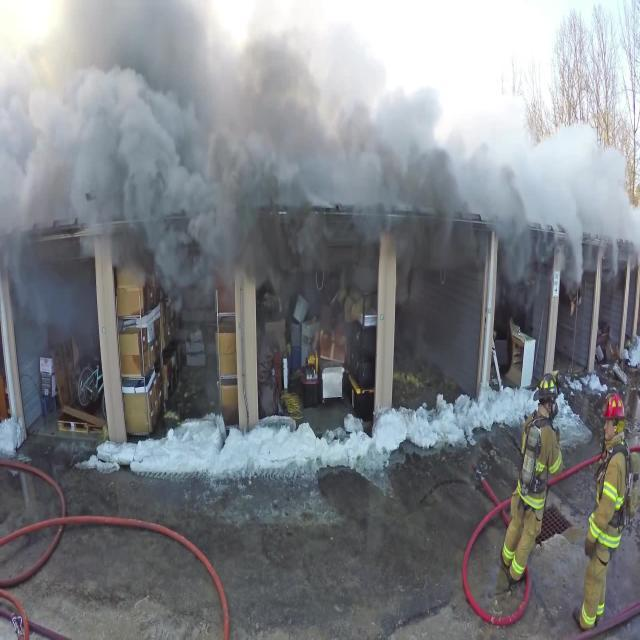Smoke: (2, 0, 640, 307)
